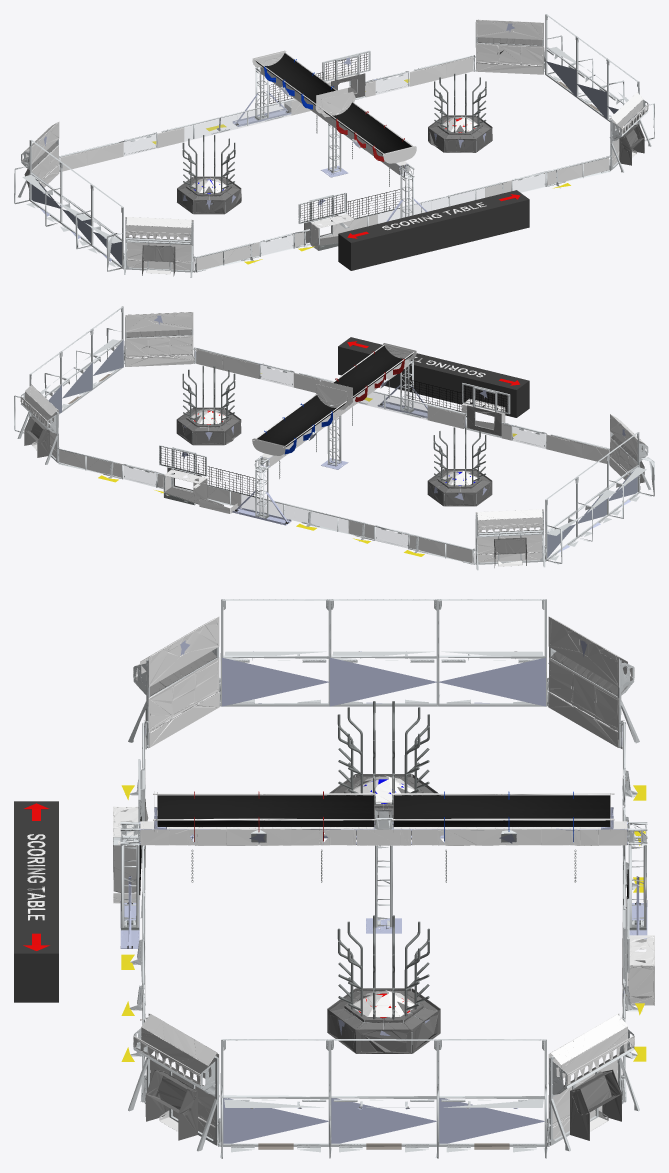
The model's file is reefscape-lo.glb.
3 renders of one model, top to bottom at view 1: azimuth 30°, elevation 25°; view 2: azimuth 150°, elevation 25°; view 3: azimuth 270°, elevation 25°, orthographic. The views are drawn at different scales.
Visible parts, largest first — view 1: field.mat_0, field.mat_1, field.mat_11, field.mat_6, field.field_clear, field.mat_3, field.mat_13, field.mat_5, field.mat_7; view 2: field.mat_0, field.mat_1, field.mat_6, field.mat_11, field.field_clear, field.mat_3, field.mat_13, field.mat_5, field.mat_7; view 3: field.mat_0, field.mat_1, field.mat_3, field.mat_6, field.mat_13, field.mat_11, field.mat_5, field.mat_2.
Part boxes in pixels (left/top/right/bottom): field.mat_0: left=22, top=19, right=648, bottom=274; field.mat_1: left=14, top=14, right=654, bottom=277; field.mat_11: left=235, top=111, right=529, bottom=270; field.mat_6: left=22, top=37, right=647, bottom=276; field.field_clear: left=124, top=72, right=545, bottom=255; field.mat_3: left=29, top=23, right=636, bottom=269; field.mat_13: left=256, top=53, right=411, bottom=154; field.mat_5: left=182, top=73, right=486, bottom=250; field.mat_7: left=269, top=53, right=399, bottom=222; field.mat_0: left=20, top=312, right=648, bottom=566; field.mat_1: left=14, top=306, right=654, bottom=570; field.mat_6: left=22, top=329, right=646, bottom=567; field.mat_11: left=235, top=337, right=529, bottom=523; field.field_clear: left=124, top=364, right=544, bottom=547; field.mat_3: left=38, top=315, right=639, bottom=557; field.mat_13: left=257, top=345, right=412, bottom=446; field.mat_5: left=164, top=366, right=486, bottom=518; field.mat_7: left=160, top=379, right=507, bottom=498; field.mat_0: left=113, top=616, right=654, bottom=1139; field.mat_1: left=113, top=599, right=654, bottom=1158; field.mat_3: left=120, top=640, right=647, bottom=1143; field.mat_6: left=113, top=651, right=652, bottom=1140; field.mat_13: left=157, top=795, right=610, bottom=826; field.mat_11: left=14, top=801, right=640, bottom=1002; field.mat_5: left=113, top=701, right=646, bottom=1019; field.mat_2: left=121, top=785, right=646, bottom=1061.
Size of the model in its own units: 18.72 by 2.67 by 10.83.
